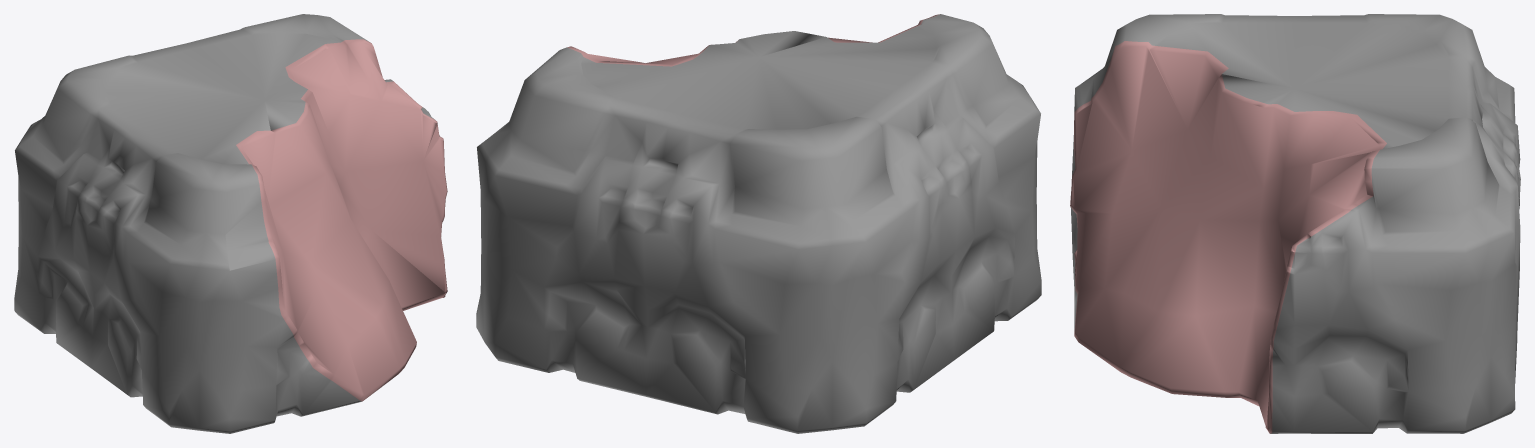
File: RuineBroken1_2.FBX
3 renders of one model, left to right at view 1: azimuth 30°, elevation 25°; view 2: azimuth 150°, elevation 25°; view 3: azimuth 270°, elevation 25°, orthographic. The views are drawn at different scales.
Visible parts, largest first — view 1: Ruine1; view 2: Ruine1; view 3: Ruine1.
Boxes of the visible parts, x1=… form: Ruine1: x1=14, y1=14, x2=447, y2=433; Ruine1: x1=476, y1=14, x2=1041, y2=433; Ruine1: x1=1070, y1=14, x2=1520, y2=433.
Size of the model in its own units: 199 by 126 by 199.
